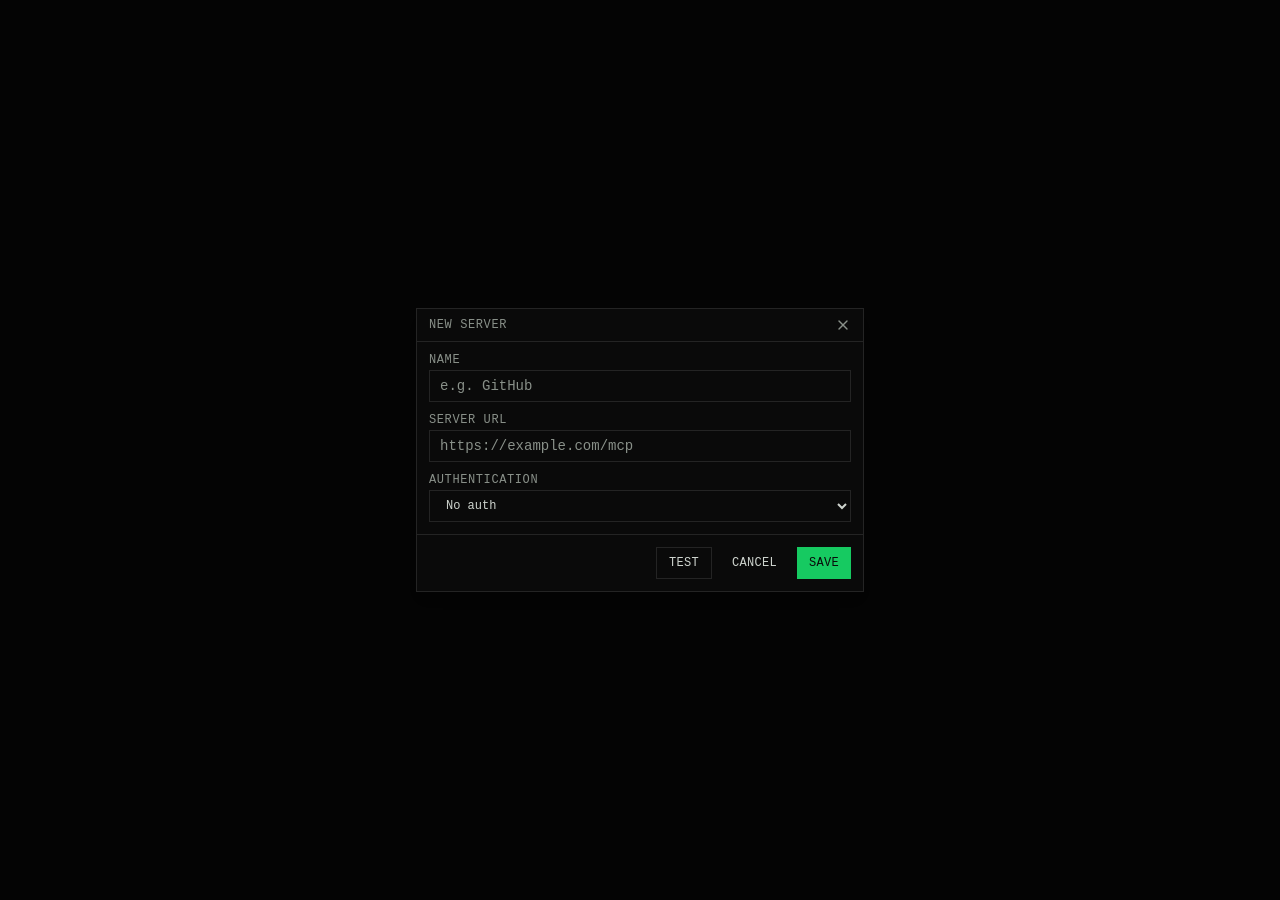
Scenario: McpServerDialog › requires a valid URL
Type "X" into the field labelled "Name" at [640, 386], box top-left (429, 370), bottom-right (851, 402)
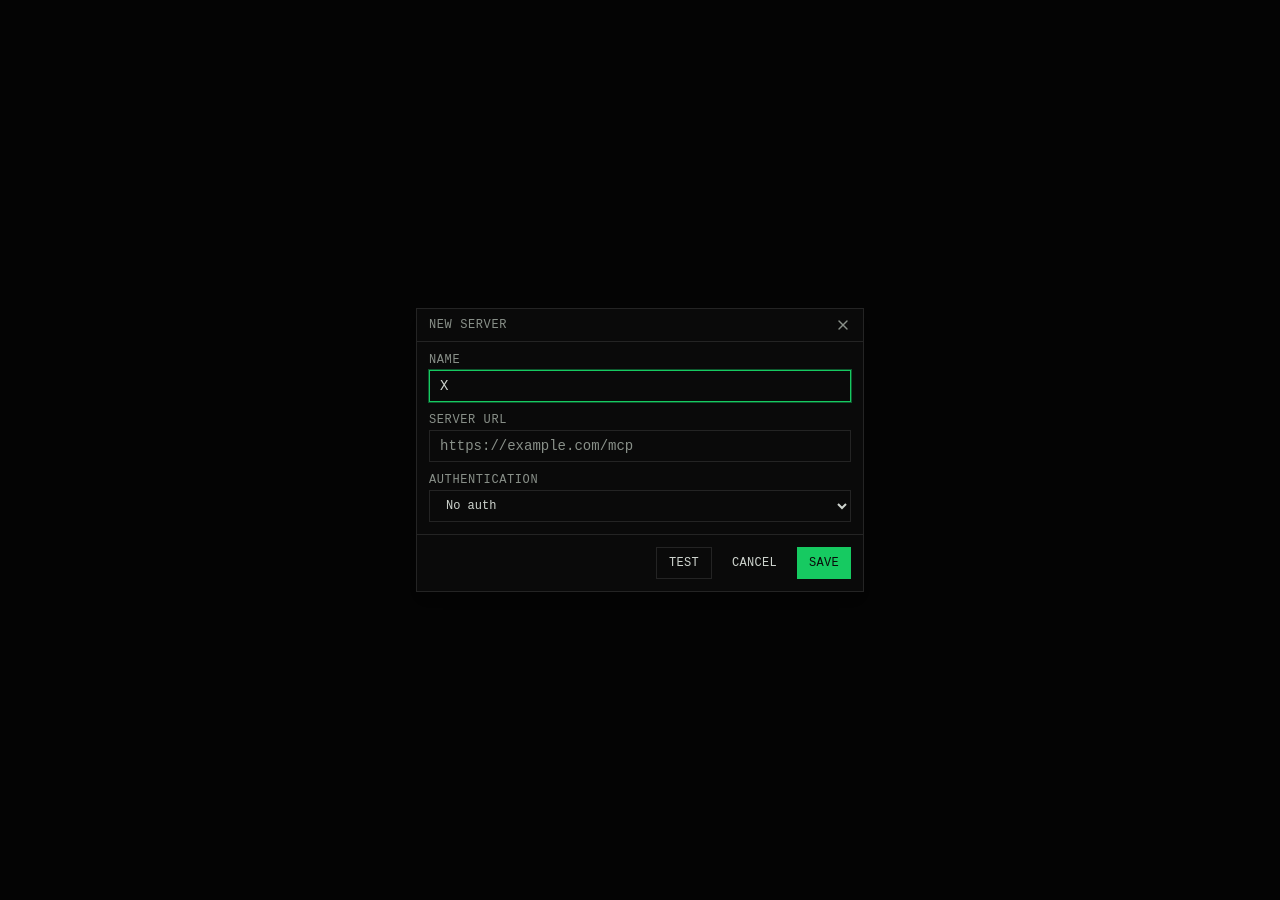
Type "not-a-url" into the field labelled "Server URL" at [640, 446], box top-left (429, 430), bottom-right (851, 462)
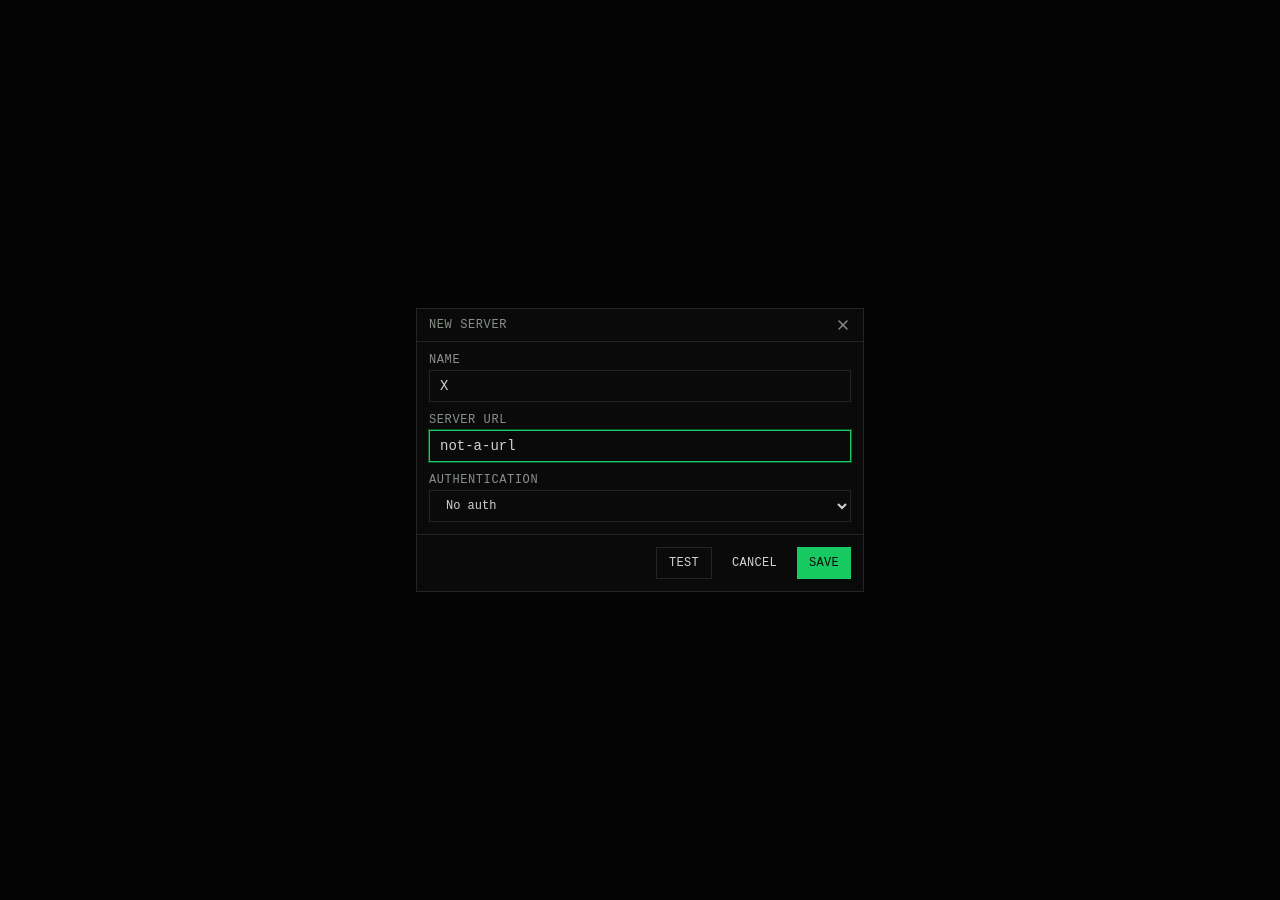
Click the button "Save" at [824, 563], box top-left (797, 547), bottom-right (851, 579)
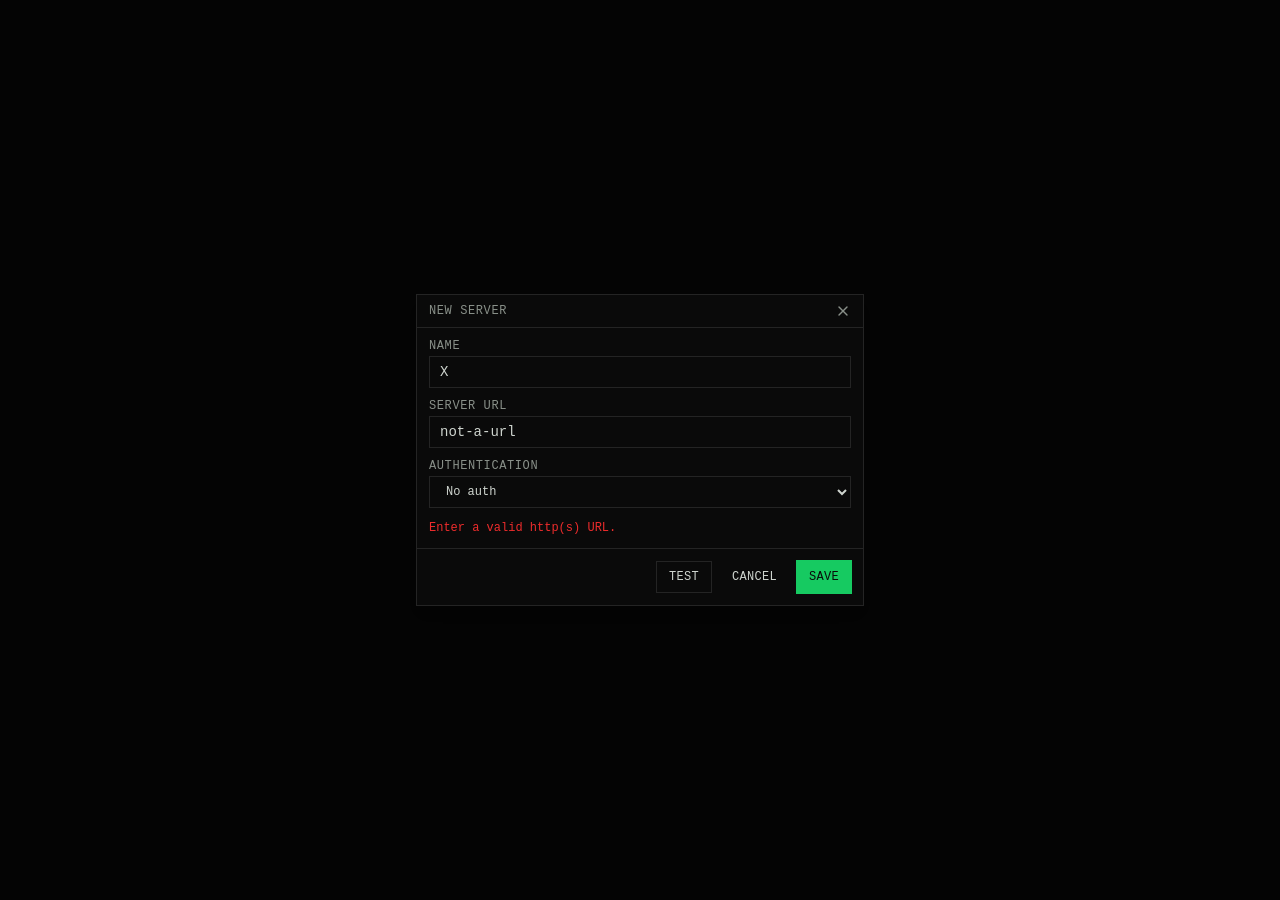
Expected: the message shows "valid http(s) URL", top-left (429, 521), bottom-right (616, 535)
